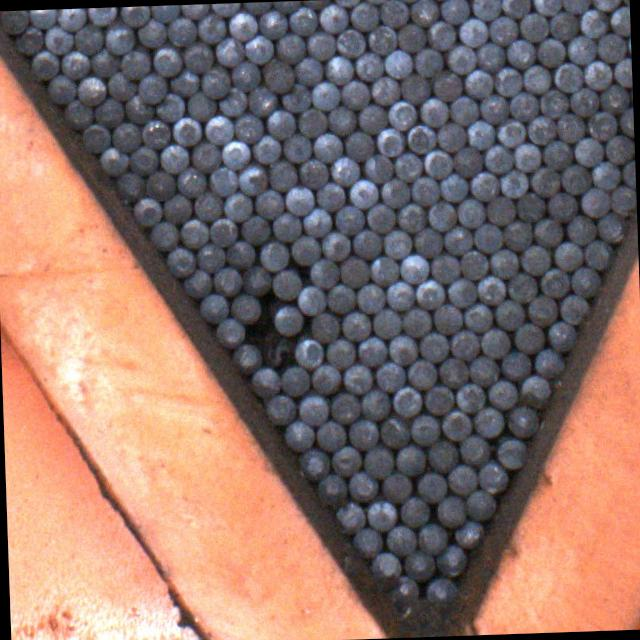tool: (362, 444, 392, 478), (464, 488, 495, 520), (527, 294, 558, 326), (452, 145, 482, 178), (62, 99, 93, 130), (494, 299, 525, 330), (458, 435, 490, 465), (394, 443, 424, 475), (440, 409, 470, 441), (506, 404, 536, 436), (520, 374, 550, 406), (270, 268, 300, 300), (455, 196, 485, 228), (144, 170, 176, 200), (552, 61, 582, 93), (92, 96, 122, 128), (200, 65, 229, 98), (284, 420, 314, 451), (330, 444, 360, 475), (346, 418, 376, 449), (371, 307, 401, 338), (580, 186, 610, 217), (478, 93, 508, 124), (192, 191, 222, 222), (428, 440, 457, 472), (375, 360, 404, 392), (336, 501, 364, 534), (250, 366, 280, 396), (279, 366, 309, 396), (352, 528, 382, 558), (371, 552, 401, 582), (426, 577, 456, 607), (436, 544, 466, 574), (404, 548, 434, 578), (416, 524, 446, 554), (314, 420, 344, 450), (310, 364, 340, 394), (406, 359, 436, 389), (438, 358, 468, 388), (292, 338, 322, 368), (432, 304, 462, 334), (414, 278, 444, 308), (570, 266, 600, 296), (520, 244, 550, 274), (488, 248, 518, 278), (398, 253, 428, 283), (308, 258, 338, 288), (502, 220, 532, 250), (566, 214, 596, 244), (546, 192, 576, 222), (112, 122, 142, 152), (598, 83, 628, 113), (344, 130, 374, 160), (604, 134, 634, 164), (284, 184, 314, 214), (560, 164, 590, 194), (446, 44, 476, 74), (299, 450, 328, 481), (472, 406, 503, 435), (339, 257, 368, 288), (176, 166, 205, 197), (392, 384, 420, 416), (212, 266, 240, 298), (242, 264, 270, 296), (608, 184, 636, 216), (46, 74, 75, 104), (76, 76, 105, 106), (366, 499, 395, 529), (398, 496, 428, 525), (447, 464, 476, 494), (347, 471, 376, 501), (379, 418, 409, 447), (409, 414, 438, 444), (486, 379, 516, 408), (468, 356, 498, 385), (401, 307, 431, 336), (356, 282, 385, 312), (447, 277, 476, 307), (507, 272, 536, 302), (369, 256, 398, 286), (224, 240, 253, 270), (352, 229, 382, 258), (413, 227, 442, 257), (442, 225, 472, 254), (271, 211, 300, 241), (332, 204, 362, 233), (365, 202, 394, 232), (426, 200, 455, 230), (485, 195, 514, 225), (515, 192, 544, 222), (448, 95, 478, 124), (538, 88, 568, 117), (298, 158, 327, 188), (363, 152, 392, 182), (222, 190, 251, 220), (314, 181, 344, 210), (348, 178, 377, 208), (380, 178, 410, 207), (104, 24, 133, 54), (162, 193, 190, 224), (389, 574, 416, 606), (166, 247, 195, 276), (416, 472, 445, 501), (381, 472, 410, 501), (497, 439, 526, 468), (501, 351, 530, 380), (479, 328, 508, 357), (584, 239, 613, 268), (302, 207, 331, 236), (358, 104, 387, 133), (543, 139, 572, 168), (530, 167, 559, 196), (125, 93, 154, 122), (149, 220, 177, 250), (436, 496, 464, 526), (361, 388, 389, 418), (330, 392, 358, 422), (298, 395, 326, 425), (343, 363, 371, 393), (548, 320, 576, 350), (419, 331, 447, 361), (388, 334, 416, 364), (325, 338, 353, 368), (310, 312, 338, 342), (463, 302, 491, 332), (560, 294, 588, 324), (476, 274, 504, 304), (430, 254, 460, 282), (259, 240, 287, 270), (196, 243, 224, 273), (204, 114, 232, 144), (234, 113, 262, 143), (587, 110, 615, 140), (556, 112, 584, 142), (528, 114, 556, 144), (192, 142, 220, 172), (220, 140, 248, 170), (237, 164, 265, 194), (469, 170, 497, 200), (582, 60, 612, 88), (90, 46, 118, 76), (264, 62, 292, 92), (280, 82, 308, 112), (458, 16, 486, 46), (506, 38, 534, 68), (13, 26, 42, 54), (272, 306, 301, 334), (265, 396, 294, 424), (317, 474, 345, 503), (456, 383, 484, 412), (534, 348, 562, 377), (514, 322, 542, 351), (450, 330, 478, 359), (540, 268, 569, 296), (553, 242, 582, 270), (320, 232, 349, 260), (533, 218, 562, 246), (241, 215, 269, 244), (397, 203, 425, 232), (141, 119, 169, 148), (171, 116, 200, 144), (266, 109, 294, 138), (298, 107, 326, 136), (420, 96, 448, 125), (508, 91, 536, 120), (569, 87, 598, 115), (268, 160, 296, 189), (423, 149, 451, 178), (574, 136, 602, 165), (254, 188, 282, 217), (411, 176, 439, 205), (60, 49, 88, 78), (120, 50, 148, 79), (218, 86, 246, 115), (248, 86, 276, 115), (215, 316, 242, 346), (478, 462, 505, 492), (342, 310, 369, 340), (180, 218, 207, 248), (383, 228, 410, 258), (474, 222, 501, 252), (283, 132, 310, 162), (394, 152, 421, 182), (499, 168, 526, 198), (432, 73, 462, 100), (82, 124, 110, 152), (100, 146, 128, 174), (198, 293, 226, 321), (232, 344, 260, 372), (387, 526, 415, 554), (425, 386, 453, 414), (358, 336, 386, 364), (326, 284, 354, 312), (290, 236, 318, 264), (596, 213, 624, 241), (128, 146, 156, 174), (160, 144, 188, 172), (436, 122, 464, 150), (330, 156, 358, 184), (484, 144, 512, 172), (106, 72, 134, 100), (318, 3, 346, 31), (245, 35, 273, 63), (336, 28, 364, 56), (550, 12, 578, 40), (475, 42, 503, 70), (464, 69, 492, 97), (383, 49, 411, 77), (400, 74, 428, 102), (466, 119, 493, 148), (276, 34, 303, 63), (297, 284, 323, 314), (388, 100, 414, 130), (74, 24, 100, 54), (154, 46, 180, 76), (138, 74, 164, 104), (368, 24, 394, 54), (183, 269, 210, 297), (454, 521, 482, 548), (386, 280, 413, 308), (252, 135, 280, 162), (314, 132, 341, 160), (407, 124, 434, 152), (209, 166, 236, 194), (168, 16, 195, 44), (228, 12, 255, 40), (259, 10, 286, 38), (350, 3, 378, 30), (216, 37, 243, 65), (426, 21, 454, 48), (597, 33, 624, 61), (567, 35, 594, 63), (413, 48, 440, 76), (371, 76, 398, 104), (355, 52, 382, 80), (210, 217, 236, 246), (514, 142, 540, 171), (591, 160, 617, 189), (156, 92, 182, 121), (232, 61, 258, 90), (296, 56, 322, 85), (326, 53, 352, 82), (580, 8, 605, 38), (31, 51, 58, 78), (133, 197, 160, 224), (198, 15, 225, 42), (397, 24, 424, 51), (520, 13, 547, 40), (116, 172, 142, 200), (232, 294, 258, 322), (460, 250, 486, 278), (496, 120, 524, 146), (375, 128, 401, 156), (440, 172, 466, 200), (289, 6, 315, 34), (184, 44, 212, 70), (308, 31, 334, 59), (310, 81, 336, 109), (341, 80, 367, 108), (538, 38, 564, 66), (494, 67, 520, 95), (328, 105, 353, 134), (490, 16, 515, 45), (44, 26, 70, 53), (138, 18, 164, 45), (380, 0, 407, 26), (523, 64, 548, 92), (410, 0, 437, 25), (170, 70, 197, 94), (188, 92, 212, 118), (440, 0, 467, 23), (0, 10, 26, 33), (610, 6, 630, 35), (58, 8, 84, 30), (612, 58, 632, 86), (120, 6, 148, 25), (471, 0, 500, 18), (28, 9, 55, 28), (87, 7, 115, 24), (501, 0, 529, 17), (150, 4, 179, 20), (619, 107, 634, 136), (622, 160, 636, 188), (210, 2, 238, 16), (180, 4, 207, 18), (533, 0, 560, 14), (561, 0, 590, 13), (272, 1, 301, 12), (590, 0, 619, 9)
tool_b: (260, 332, 294, 372)
void: (242, 318, 274, 342)
